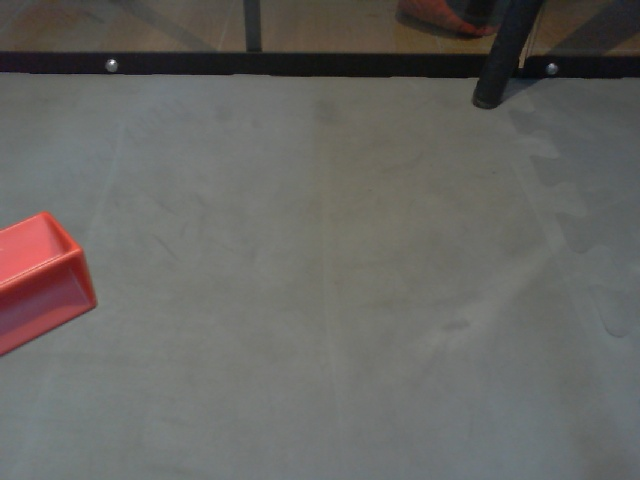RedSample: (1, 210, 99, 358)
